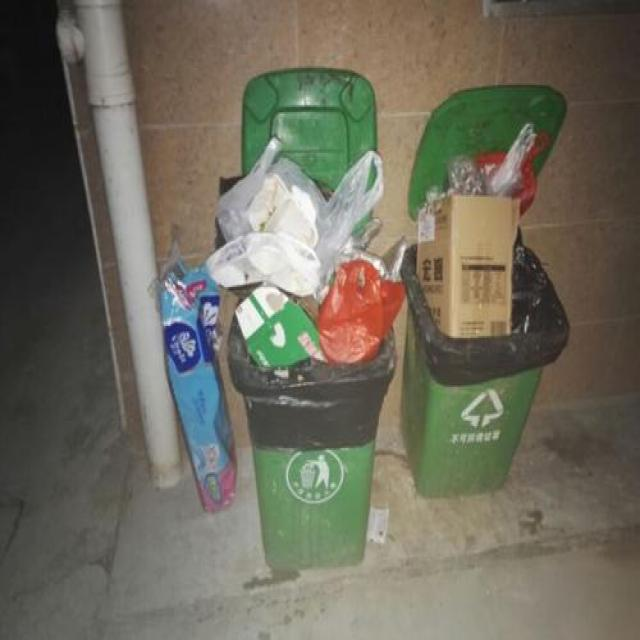garbage: (148, 225, 237, 512)
overflow: (206, 134, 406, 569), (398, 124, 568, 497)
